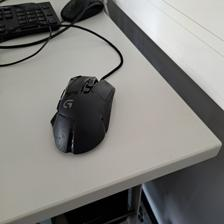mouse: (50, 74, 116, 156)
